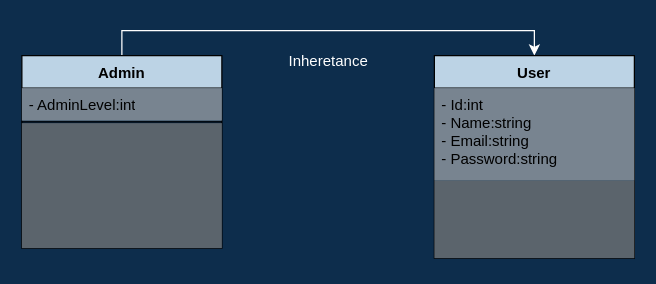
The diagram is 656 pixels wide and 284 high, and some of its shapes have lost their labels. Here are the shapes that lost their labels. From the top down, the centre of each, then its label:
point 121,185: + CreateTeam(Team) + RemoveTeam(Team) + ManageLeague()
point 534,219: + login() + logout() + Select Team()
